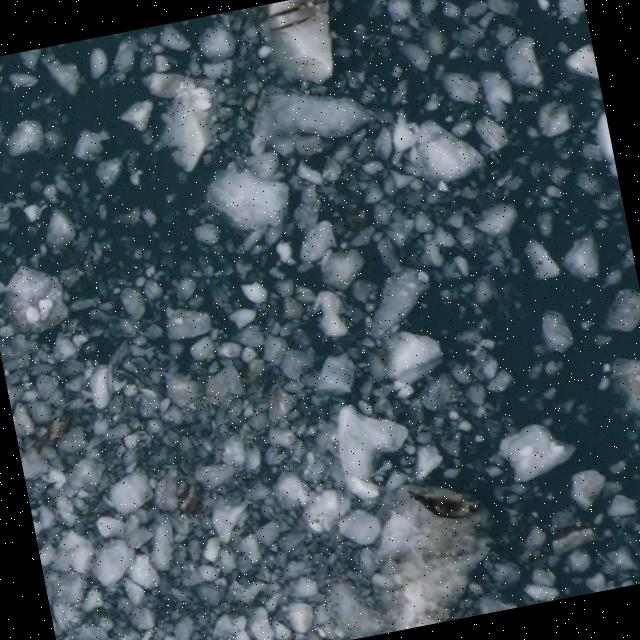seal: (406, 492, 478, 523)
